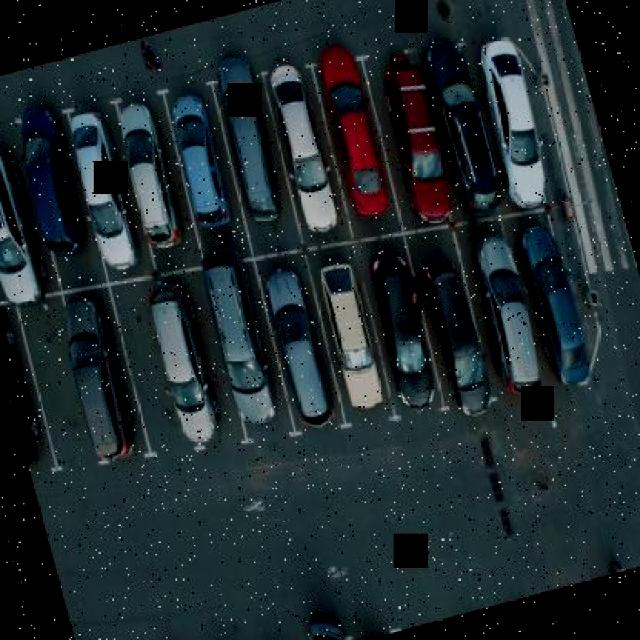car: (466, 9, 577, 226), (250, 39, 358, 252), (364, 27, 467, 241), (298, 25, 404, 230), (360, 232, 460, 442), (198, 34, 296, 248), (412, 26, 516, 226), (466, 226, 562, 427), (304, 248, 400, 442), (509, 215, 606, 403), (252, 253, 342, 453), (410, 244, 504, 427), (0, 69, 92, 255), (63, 102, 151, 288), (60, 286, 148, 468), (200, 253, 286, 438), (145, 284, 233, 464), (105, 90, 188, 264), (158, 82, 242, 244), (0, 301, 55, 481), (0, 142, 51, 320), (297, 591, 354, 640)
free: (18, 304, 104, 476), (112, 294, 188, 462)
